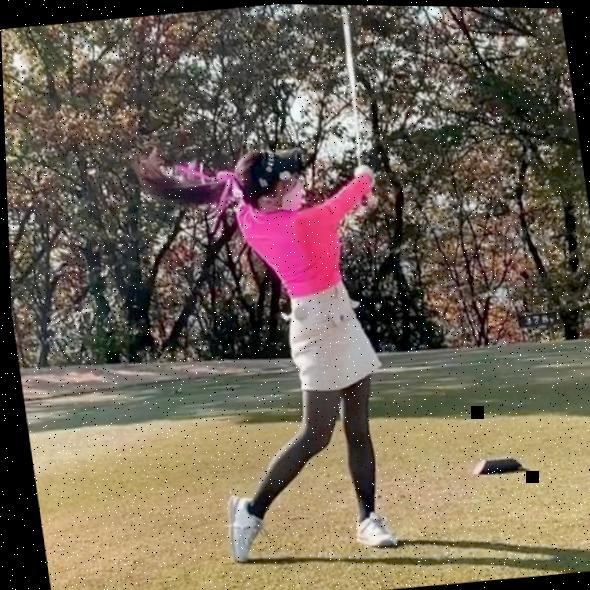ClubHead: (323, 4, 353, 6)
